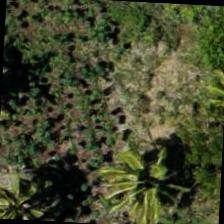Kelapa_Sawit: (103, 131, 199, 223), (0, 162, 61, 221)
